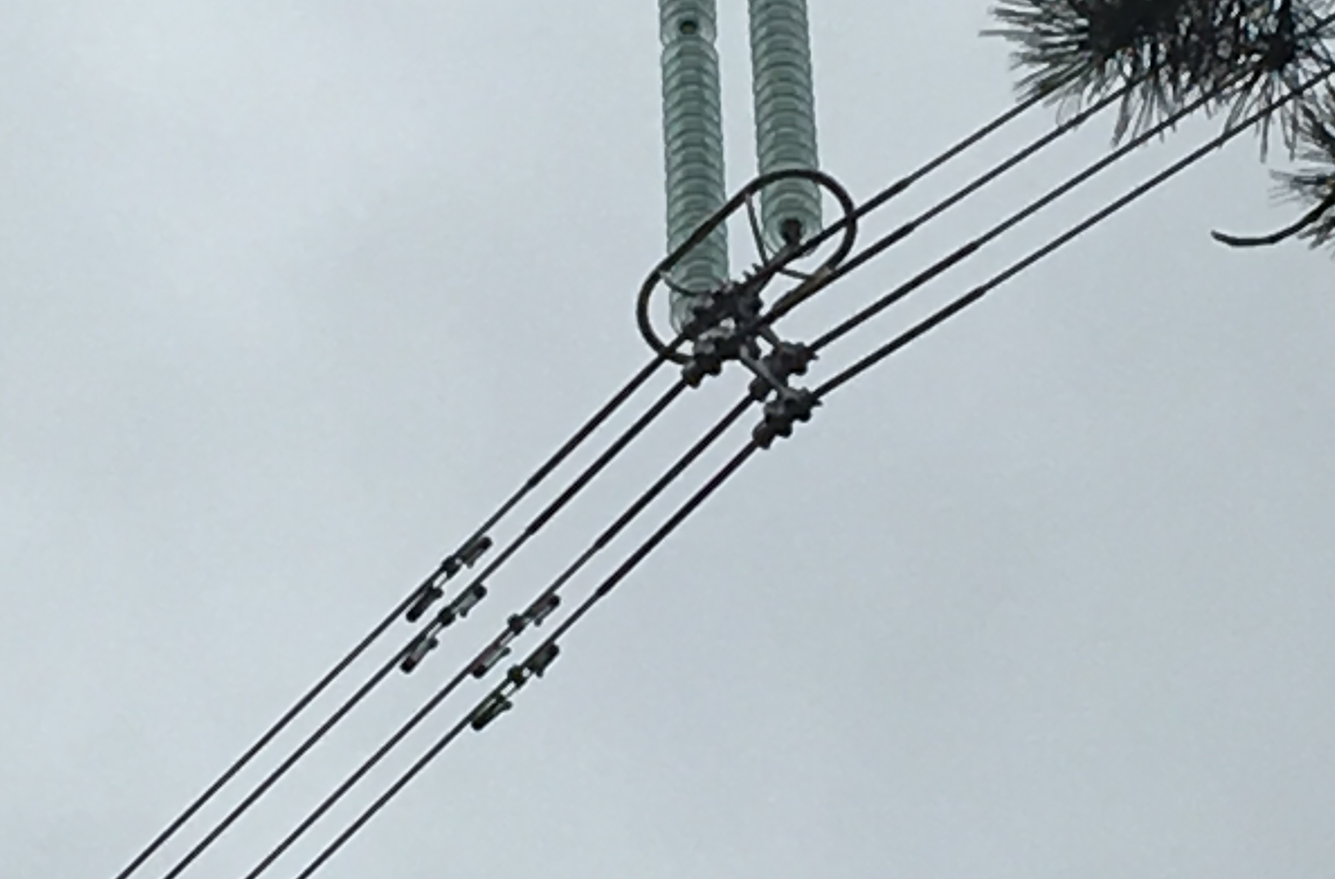damper: (469, 641, 561, 733), (398, 582, 488, 675), (399, 533, 493, 622), (470, 591, 562, 679)
